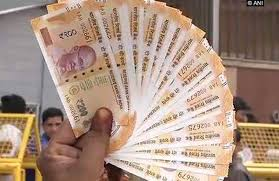twoHundred: (49, 19, 103, 126)
